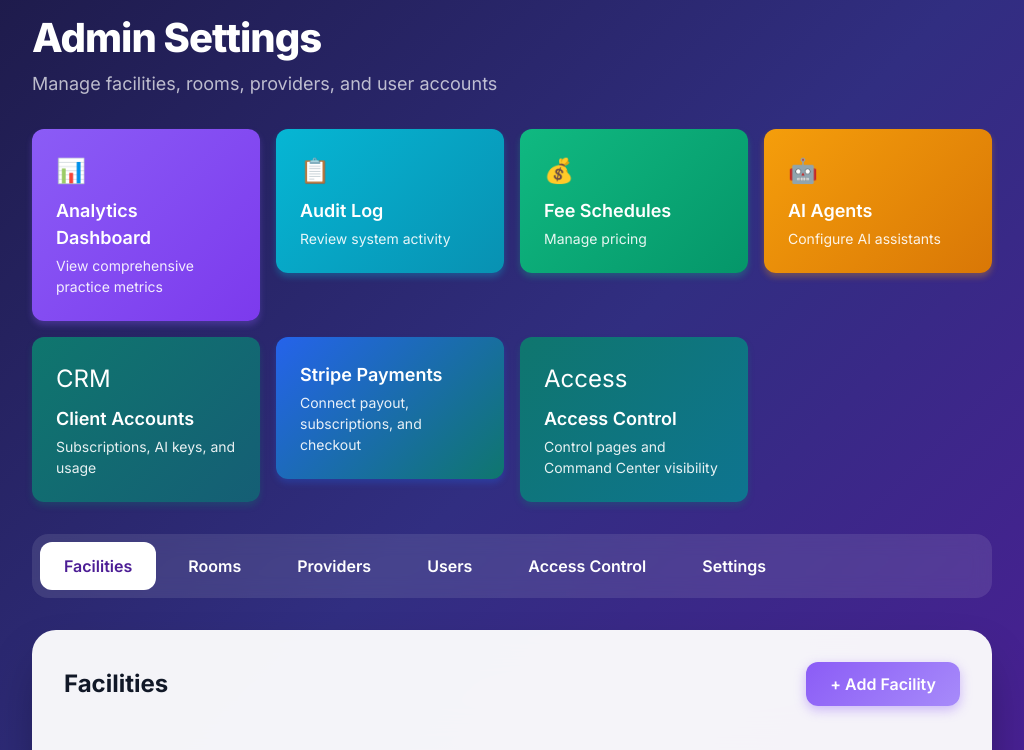
AdminPage › should switch to users tab and load users
What coordinates should you click on to do the following:
click the button "Users"
I would click on:
 (450, 566)
Its box is [403, 542, 496, 590].
(page scrolled)
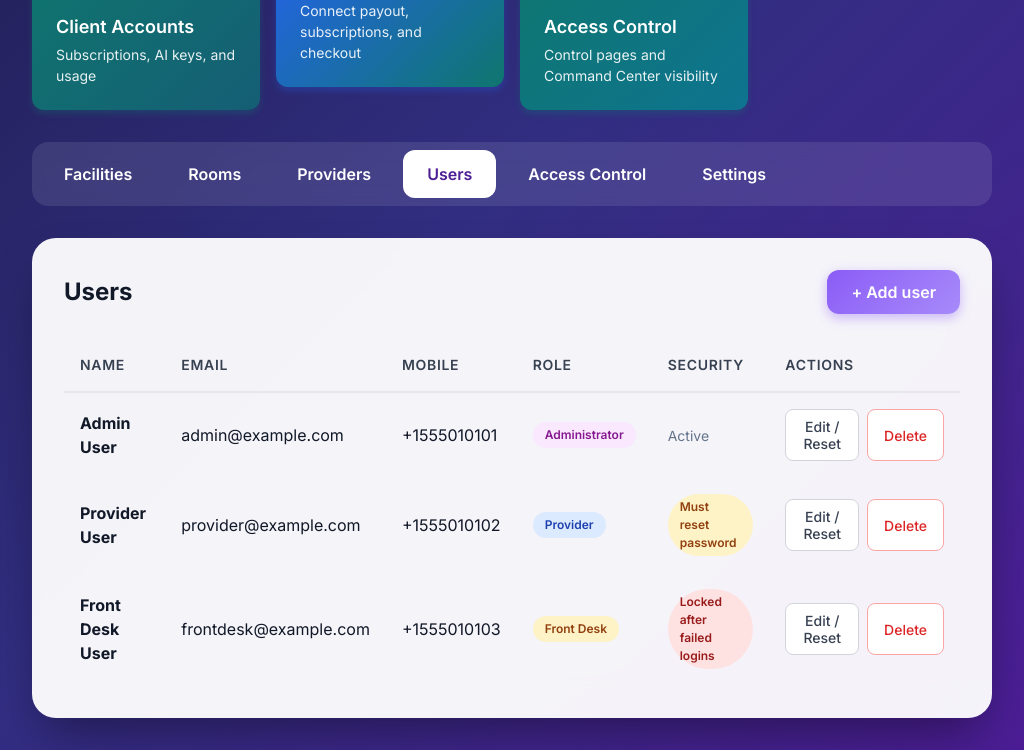
Expected: the text "Admin User" is shown, [80, 413, 131, 457]
Expected: the text "Provider User" is shown, [80, 503, 146, 547]
Expected: the text "admin@example.com" is shown, [165, 392, 386, 478]
